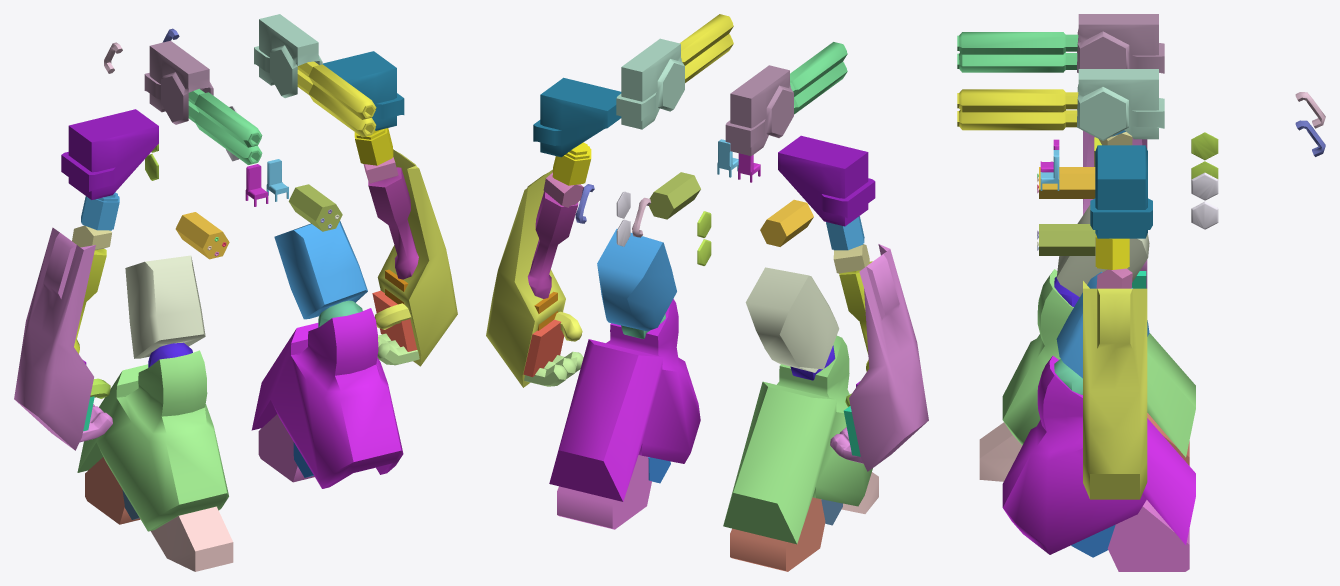
3 views of the same model, side by side, from view 1: azimuth 30°, elevation 25°; view 2: azimuth 150°, elevation 25°; view 3: azimuth 270°, elevation 25° (orthographic). The views are drawn at different scales.
Parts seen in each view (by area): view 1: group1_pasted__polySurface23_blinn1_0.047, group1_pasted__polySurface23_blinn1_0.162, split_parent_51, split_parent_42, group1_pasted__polySurface23_blinn1_0.1375, group1_pasted__polySurface23_blinn1_0.1050, group1_pasted__polySurface23_blinn1_0.620, group1_pasted__polySurface23_blinn1_0.166, group1_pasted__polySurface23_blinn1_0.219, group1_pasted__polySurface23_blinn1_0.104, split_parent_20, group1_pasted__polySurface23_blinn1_0.278 (+18 smaller); view 2: group1_pasted__polySurface23_blinn1_0.047, group1_pasted__polySurface23_blinn1_0.162, split_parent_51, split_parent_42, group1_pasted__polySurface23_blinn1_0.1375, group1_pasted__polySurface23_blinn1_0.1050, group1_pasted__polySurface23_blinn1_0.620, group1_pasted__polySurface23_blinn1_0.278, group1_pasted__polySurface23_blinn1_0.104, group1_pasted__polySurface23_blinn1_0.219, group1_pasted__polySurface23_blinn1_0.055, group1_pasted__polySurface23_blinn1_0.170 (+15 smaller); view 3: group1_pasted__polySurface23_blinn1_0.047, split_parent_42, group1_pasted__polySurface23_blinn1_0.162, group1_pasted__polySurface23_blinn1_0.104, group1_pasted__polySurface23_blinn1_0.278, split_parent_20, split_parent_38, group1_pasted__polySurface23_blinn1_0.219, group1_pasted__polySurface23_blinn1_0.055, group1_pasted__polySurface23_blinn1_0.1375, group1_pasted__polySurface23_blinn1_0.166, group1_pasted__polySurface23_blinn1_0.102 (+9 smaller).
Part boxes in pixels (left/top/right/bottom): group1_pasted__polySurface23_blinn1_0.047: left=251, top=308, right=403, bottom=488; group1_pasted__polySurface23_blinn1_0.162: left=77, top=350, right=228, bottom=531; split_parent_51: left=14, top=227, right=112, bottom=450; split_parent_42: left=377, top=149, right=457, bottom=366; group1_pasted__polySurface23_blinn1_0.1375: left=125, top=255, right=205, bottom=358; group1_pasted__polySurface23_blinn1_0.1050: left=61, top=109, right=158, bottom=199; group1_pasted__polySurface23_blinn1_0.620: left=274, top=221, right=367, bottom=319; group1_pasted__polySurface23_blinn1_0.166: left=150, top=506, right=233, bottom=571; group1_pasted__polySurface23_blinn1_0.219: left=144, top=40, right=213, bottom=124; group1_pasted__polySurface23_blinn1_0.104: left=254, top=14, right=322, bottom=98; split_parent_20: left=297, top=61, right=376, bottom=137; group1_pasted__polySurface23_blinn1_0.278: left=323, top=51, right=404, bottom=130; group1_pasted__polySurface23_blinn1_0.047: left=549, top=299, right=700, bottom=501; group1_pasted__polySurface23_blinn1_0.162: left=723, top=335, right=872, bottom=544; split_parent_51: left=830, top=244, right=928, bottom=471; split_parent_42: left=486, top=169, right=565, bottom=387; group1_pasted__polySurface23_blinn1_0.1375: left=745, top=267, right=839, bottom=372; group1_pasted__polySurface23_blinn1_0.1050: left=778, top=135, right=875, bottom=226; group1_pasted__polySurface23_blinn1_0.620: left=597, top=228, right=676, bottom=331; group1_pasted__polySurface23_blinn1_0.278: left=533, top=77, right=621, bottom=157; group1_pasted__polySurface23_blinn1_0.104: left=616, top=38, right=684, bottom=129; group1_pasted__polySurface23_blinn1_0.219: left=725, top=65, right=793, bottom=156; group1_pasted__polySurface23_blinn1_0.055: left=557, top=455, right=651, bottom=529; group1_pasted__polySurface23_blinn1_0.170: left=730, top=497, right=825, bottom=571; group1_pasted__polySurface23_blinn1_0.047: left=1002, top=356, right=1195, bottom=554; split_parent_42: left=1083, top=281, right=1147, bottom=499; group1_pasted__polySurface23_blinn1_0.162: left=1002, top=269, right=1195, bottom=457; group1_pasted__polySurface23_blinn1_0.104: left=1077, top=69, right=1164, bottom=140; group1_pasted__polySurface23_blinn1_0.278: left=1090, top=145, right=1152, bottom=238; split_parent_20: left=957, top=89, right=1078, bottom=130; split_parent_38: left=957, top=32, right=1078, bottom=72; group1_pasted__polySurface23_blinn1_0.219: left=1077, top=14, right=1164, bottom=73; group1_pasted__polySurface23_blinn1_0.055: left=1107, top=500, right=1189, bottom=571; group1_pasted__polySurface23_blinn1_0.1375: left=1056, top=205, right=1149, bottom=296; group1_pasted__polySurface23_blinn1_0.166: left=979, top=422, right=1022, bottom=481; group1_pasted__polySurface23_blinn1_0.102: left=1039, top=224, right=1095, bottom=255.
Bounding box in the file's own units: 0.9704 × 1 × 0.7141.
